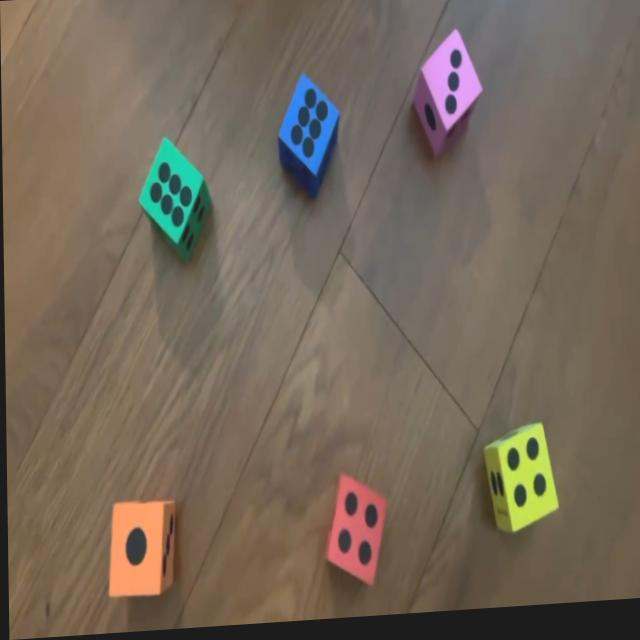blue_block: (275, 73, 340, 202)
red_block: (321, 475, 384, 590)
